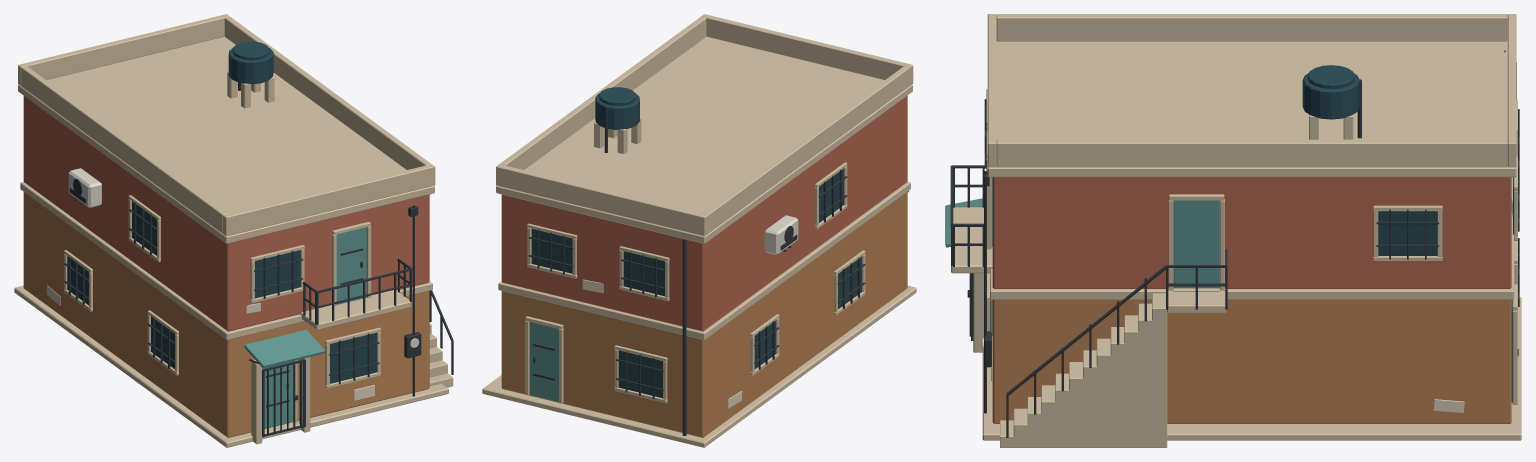
Rendered from yun_caribbean_house_01.glb.
3 renders of one model, left to right at view 1: azimuth 30°, elevation 25°; view 2: azimuth 150°, elevation 25°; view 3: azimuth 270°, elevation 25°, orthographic. The views are drawn at different scales.
Visible parts, largest first — view 1: BATCH_Concrete_Sand, BATCH_Wall_Faded_Mango, BATCH_Wall_Sunwashed_Coral, BATCH_Metal_Dark, BATCH_Accent_Seafoam, BATCH_Window_Dark, BATCH_Tank_DeepBlue, BATCH_AC_OffWhite, BATCH_Plaster_Patch; view 2: BATCH_Concrete_Sand, BATCH_Wall_Faded_Mango, BATCH_Wall_Sunwashed_Coral, BATCH_Window_Dark, BATCH_Metal_Dark, BATCH_Accent_Seafoam, BATCH_Tank_DeepBlue, BATCH_AC_OffWhite; view 3: BATCH_Concrete_Sand, BATCH_Wall_Faded_Mango, BATCH_Wall_Sunwashed_Coral, BATCH_Metal_Dark, BATCH_Accent_Seafoam, BATCH_Tank_DeepBlue, BATCH_Window_Dark.
Part boxes in pixels (x1,y1,x2,y2): BATCH_Concrete_Sand: (14, 14, 453, 447); BATCH_Wall_Faded_Mango: (23, 192, 429, 437); BATCH_Wall_Sunwashed_Coral: (23, 96, 429, 331); BATCH_Metal_Dark: (64, 82, 453, 437); BATCH_Accent_Seafoam: (244, 227, 366, 428); BATCH_Window_Dark: (67, 201, 376, 383); BATCH_Tank_DeepBlue: (228, 41, 273, 84); BATCH_AC_OffWhite: (68, 168, 419, 347); BATCH_Plaster_Patch: (46, 285, 374, 400); BATCH_Concrete_Sand: (482, 14, 916, 447); BATCH_Wall_Faded_Mango: (501, 191, 907, 437); BATCH_Wall_Sunwashed_Coral: (501, 95, 907, 331); BATCH_Window_Dark: (531, 168, 861, 398); BATCH_Metal_Dark: (528, 107, 865, 435); BATCH_Accent_Seafoam: (529, 190, 909, 401); BATCH_Tank_DeepBlue: (595, 87, 639, 129); BATCH_AC_OffWhite: (764, 215, 798, 254); BATCH_Concrete_Sand: (951, 14, 1521, 447); BATCH_Wall_Faded_Mango: (992, 299, 1511, 423); BATCH_Wall_Sunwashed_Coral: (992, 177, 1511, 288); BATCH_Metal_Dark: (950, 50, 1519, 437); BATCH_Accent_Seafoam: (945, 177, 1512, 402); BATCH_Tank_DeepBlue: (1302, 65, 1359, 119); BATCH_Window_Dark: (990, 177, 1513, 331).
Size of what is drawn, in the model's own units: 4.03 by 4.04 by 6.41.
